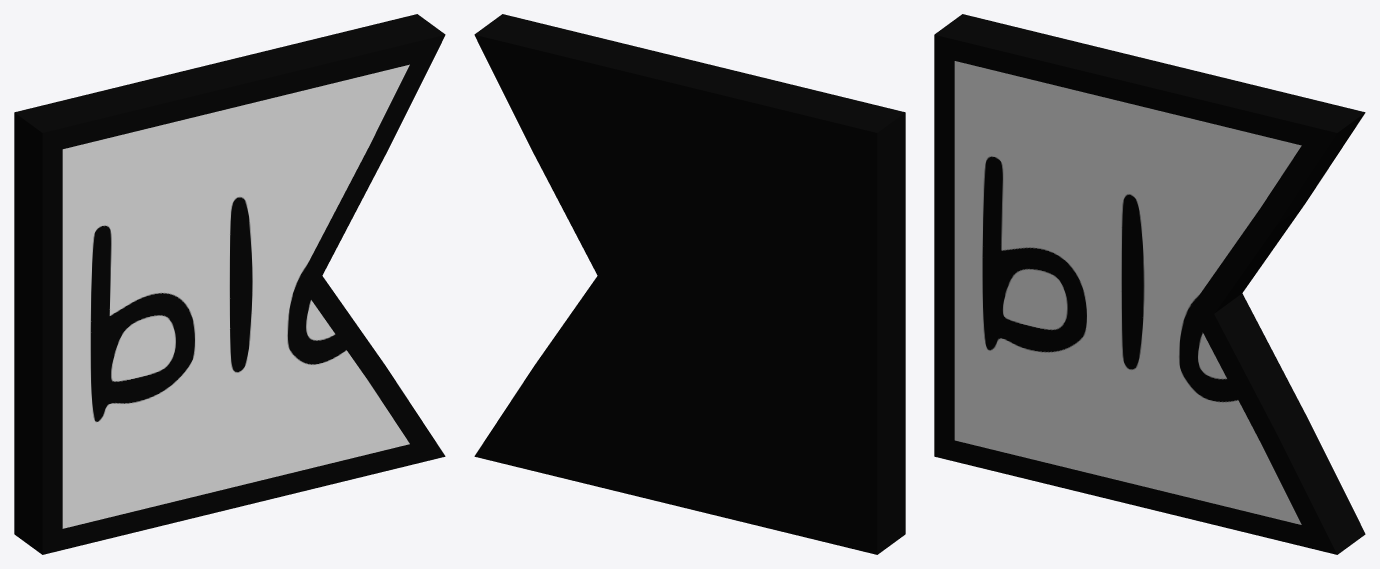
The model's file is mdl_poland_poempieces_11.gltf.
3 views of the same model, side by side, from view 1: azimuth 30°, elevation 25°; view 2: azimuth 150°, elevation 25°; view 3: azimuth 330°, elevation 25° (orthographic).
Visible parts, largest first — view 1: Plane.013; view 2: Plane.013; view 3: Plane.013.
Boxes of the visible parts, x1=… form: Plane.013: x1=14, y1=14, x2=445, y2=554; Plane.013: x1=474, y1=14, x2=905, y2=554; Plane.013: x1=934, y1=14, x2=1365, y2=554.
Bounding box in the file's own units: 0.25 × 0.25 × 0.0304.
Materials: 2 (2 with a texture image).
